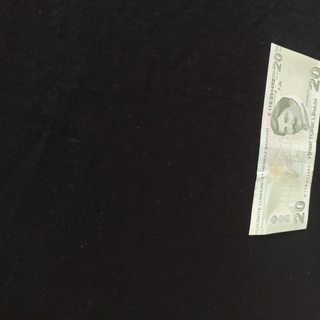20TLBack: (247, 42, 320, 238)
